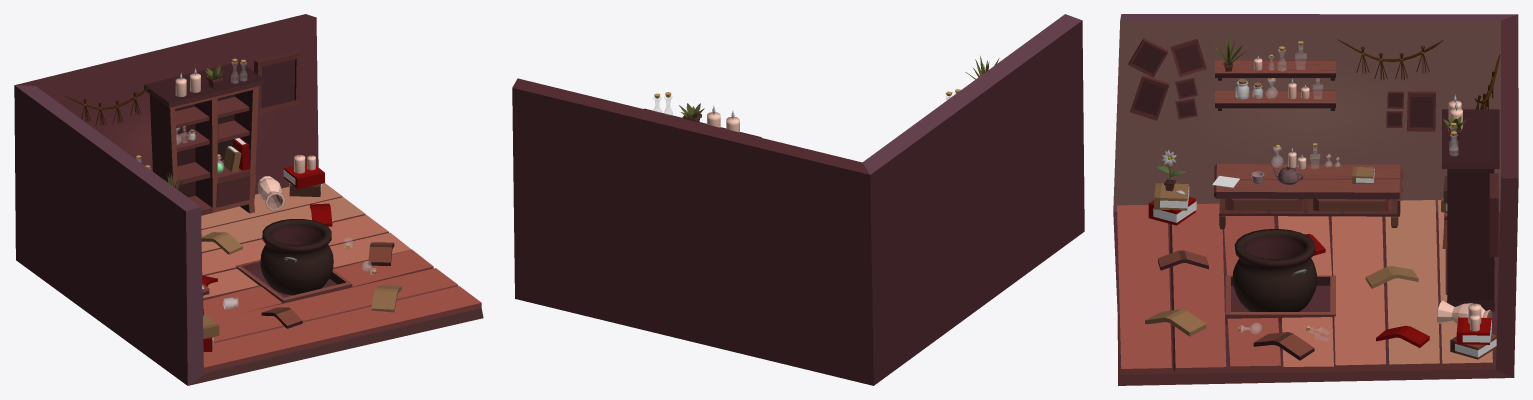
The picture shows the model from 3 angles, left to right: view 1: azimuth 30°, elevation 25°; view 2: azimuth 150°, elevation 25°; view 3: azimuth 270°, elevation 25°; orthographic projection. The views are drawn at different scales.
Visible parts, largest first — view 1: Room, Floor, Book_shelf, Pot1, Frame2, pot_stand, Pot, Book_stand_6, Book_Floor_2, lavender, Book_Floor_3, Floor_book_5 (+2 smaller); view 2: Room; view 3: Room, Floor, Book_shelf, low_tablee:pCube191, Pot1, Shelf2, Shelf3, pot_stand, Frame7, Frame3, Frame, Frame6 (+19 smaller).
Part boxes in pixels (x1,y1,x2,y2): Room: (14,14,483,385); Floor: (201,183,481,372); Book_shelf: (144,61,264,215); Pot1: (260,219,333,295); Frame2: (254,50,300,114); pot_stand: (236,259,352,303); Pot: (257,176,285,210); Book_stand_6: (283,163,324,188); Book_Floor_2: (371,285,401,312); lavender: (64,85,151,125); Book_Floor_3: (368,242,394,265); Floor_book_5: (201,232,242,254); Room: (512,14,1084,385); Room: (1113,14,1518,385); Floor: (1117,200,1492,374); Book_shelf: (1442,109,1499,311); low_tablee:pCube191: (1214,164,1402,229); Pot1: (1232,228,1317,311); Shelf2: (1215,60,1335,80); Shelf3: (1215,90,1335,110); pot_stand: (1225,275,1335,324); Frame7: (1407,91,1435,131); Frame3: (1130,75,1169,120); Frame: (1170,38,1206,76); Frame6: (1128,38,1168,77).
Bounding box in the file's own units: 36.83 × 21.27 × 37.8.
42 materials, 16 textured.
